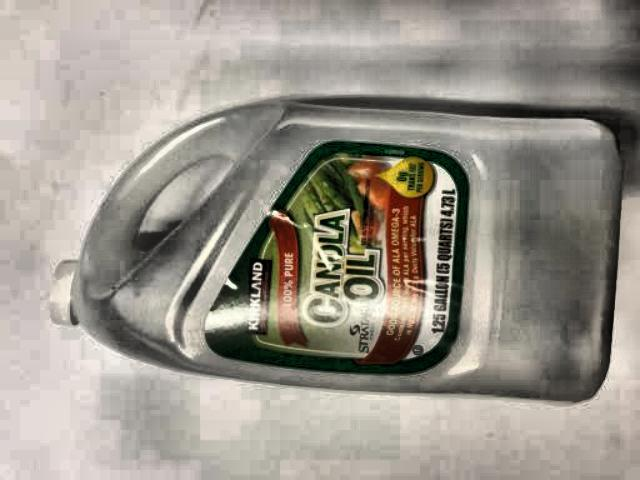Plastic: (10, 13, 620, 403)
